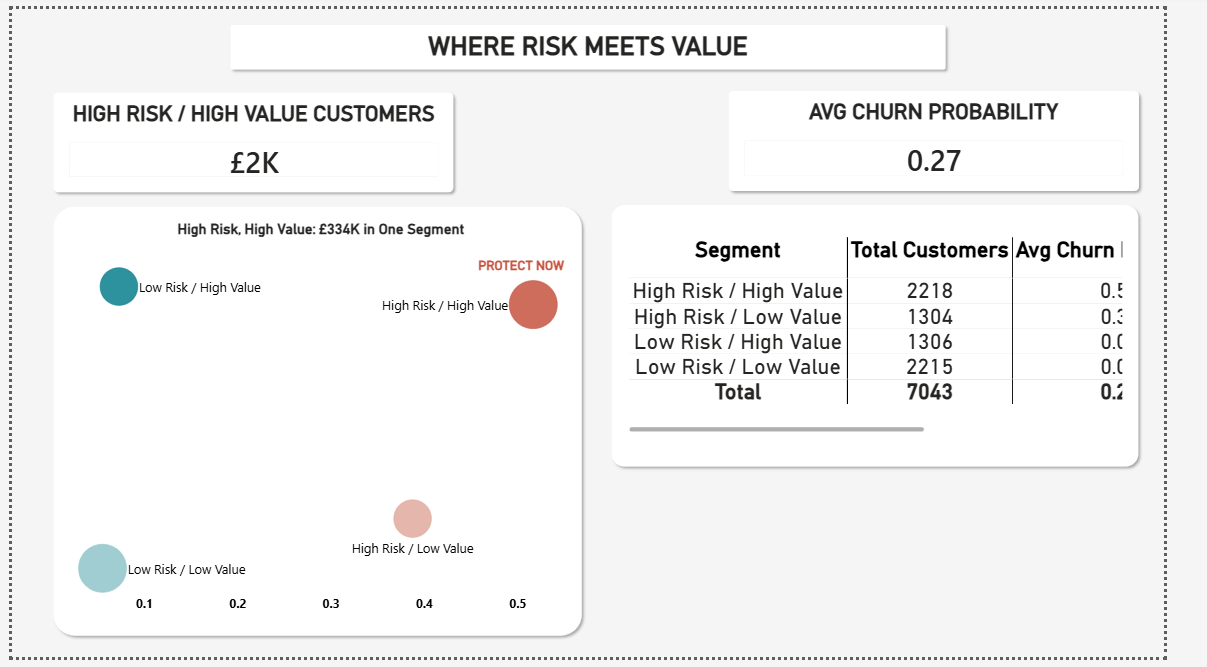

This screenshot's page, from the dashboard's own definition file:
{"tool":"powerbi","page":{"name":"Risk & Value Segmentation","canvas":[1920,1080],"ordinal":2},"visuals":[{"type":"scatterChart","title":"High Risk, High Value: £334K in One Segment","fields":{"Series":["customer_intervention_recommendations.segment"],"Size":["CountNonNull(customer_intervention_recommendations.customerID)"],"X":["customer_intervention_recommendations.Avg Churn Probability"],"Y":["Avg(customer_intervention_recommendations.MonthlyCharges)"]},"box":[0,359.5,988.5,689.8],"z":0},{"type":"cardVisual","title":"HIGH RISK HIGH VALUE CUSTOMERS","fields":{"Data":["customer_intervention_recommendations.High Risk High Value Customers"]},"box":[194.3,170,604.8,174.9],"z":1000},{"type":"cardVisual","title":"AVG CHURN PROBABILITY","fields":{"Data":["customer_intervention_recommendations.Avg Churn Probability"]},"box":[961.8,170,607.2,174.9],"z":2000},{"type":"tableEx","fields":{"Values":["customer_intervention_recommendations.segment","customer_intervention_recommendations.Total Customers","customer_intervention_recommendations.Avg Churn Probability","customer_intervention_recommendations.Total Monthly Revenue"]},"box":[1508.3,850.1,257.5,155.4],"z":3000},{"type":"textbox","box":[0,32.5,1921.2,68],"z":4000},{"type":"textbox","box":[803.9,422.6,184.6,150.6],"z":5000}]}

Visuals, with their boxes in screenshot pixels (x1, y1, x2, y2), scaled from the page's 1920x1080 canvas onto the 1207x667 screenshot:
"High Risk, High Value: £334K in One Segment" scatterChart: {"left": 0, "top": 222, "right": 621, "bottom": 648}
"HIGH RISK HIGH VALUE CUSTOMERS" cardVisual: {"left": 122, "top": 105, "right": 502, "bottom": 213}
"AVG CHURN PROBABILITY" cardVisual: {"left": 605, "top": 105, "right": 986, "bottom": 213}
tableEx - customer_intervention_recommendations.segment x customer_intervention_recommendations.Total Customers: {"left": 948, "top": 525, "right": 1110, "bottom": 621}
textbox: {"left": 0, "top": 20, "right": 1206, "bottom": 62}
textbox: {"left": 505, "top": 261, "right": 621, "bottom": 354}
